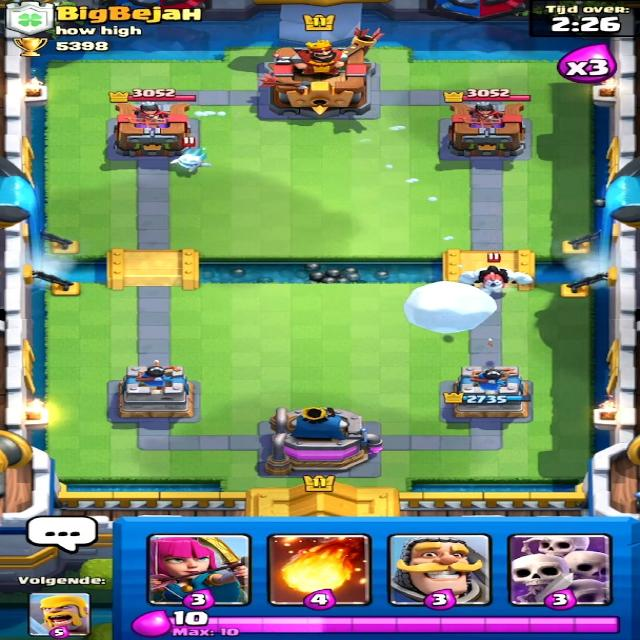Enemy_Ice_Golem_Troop: (462, 262, 533, 294)
Enemy_Ice_Spirit_Troop: (169, 151, 206, 172)
Enemy_Snowball_Troop: (398, 282, 488, 337)
Fireball_Card: (264, 530, 378, 603)
